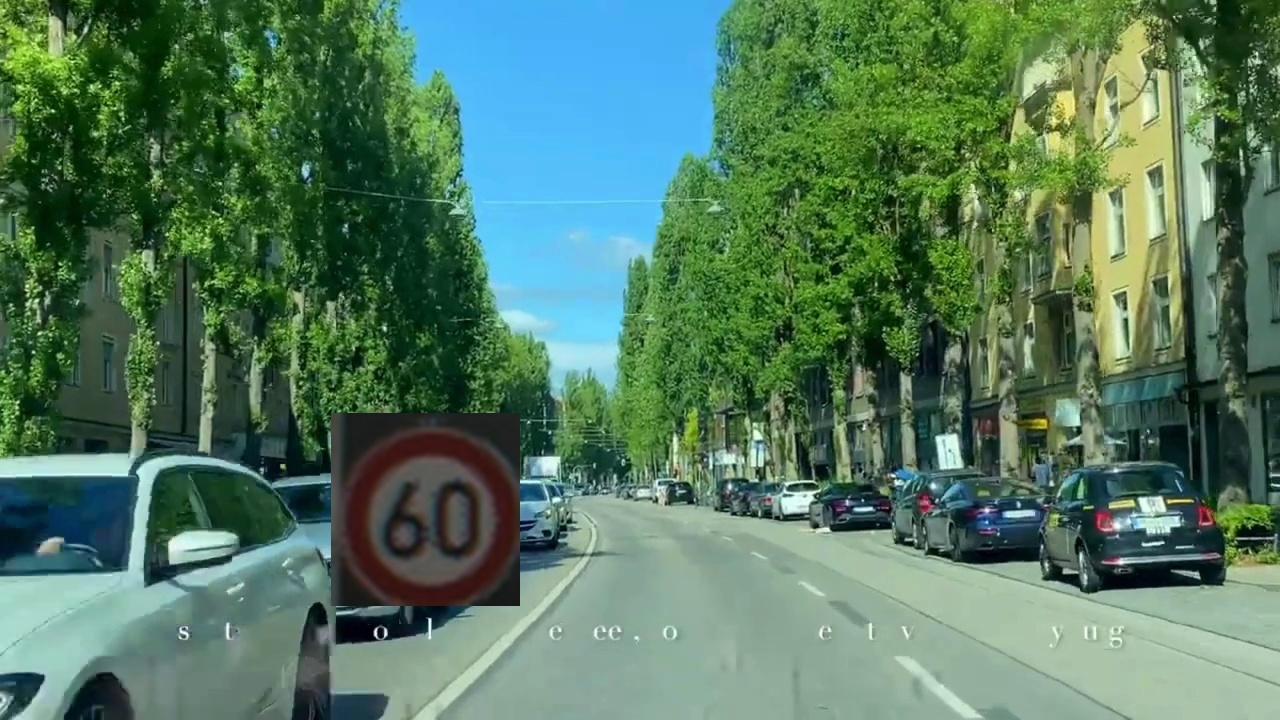Speed 60: (331, 413, 520, 606)
